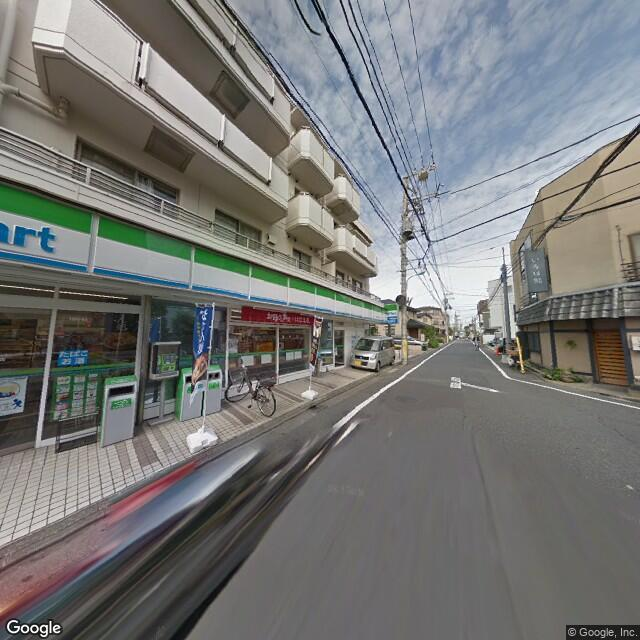family_mart: (2, 179, 399, 329)
